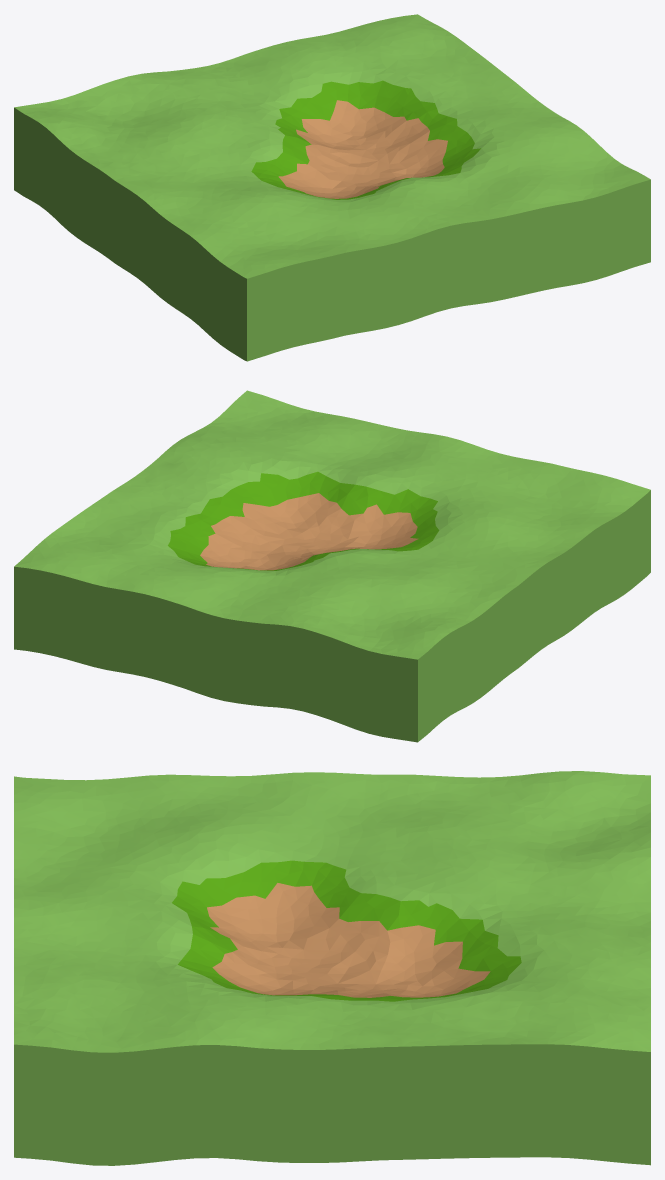
Rendered from LowPoly_Terrain.FBX.
3 views of the same model, one above another, from view 1: azimuth 30°, elevation 25°; view 2: azimuth 150°, elevation 25°; view 3: azimuth 270°, elevation 25° (orthographic). The views are drawn at different scales.
Parts seen in each view (by area): view 1: LowPolyTerrain; view 2: LowPolyTerrain; view 3: LowPolyTerrain.
Part boxes in pixels (x1,y1,x2,y2): LowPolyTerrain: [14, 14, 650, 361]; LowPolyTerrain: [14, 390, 650, 742]; LowPolyTerrain: [14, 771, 650, 1165].
Size of the model in its own units: 3000 by 658 by 3000.
